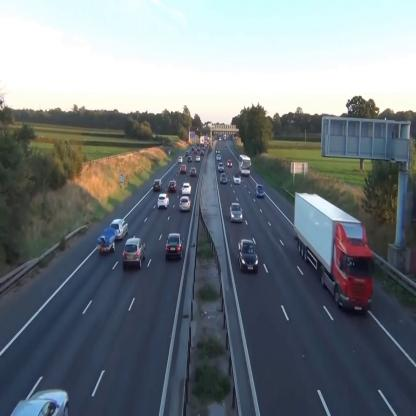car: (123, 238, 146, 270), (238, 239, 258, 273), (165, 232, 184, 261), (110, 218, 128, 237), (230, 202, 243, 223), (180, 195, 190, 212), (158, 193, 169, 208), (255, 183, 265, 198), (168, 179, 177, 193), (152, 178, 162, 190), (233, 172, 241, 185), (182, 182, 190, 194), (221, 172, 228, 184), (218, 161, 224, 172), (190, 167, 197, 176), (180, 164, 186, 172), (227, 159, 233, 167), (178, 156, 183, 164), (196, 154, 200, 161), (188, 156, 192, 163)
lorry: (294, 190, 376, 317), (239, 153, 251, 176)
